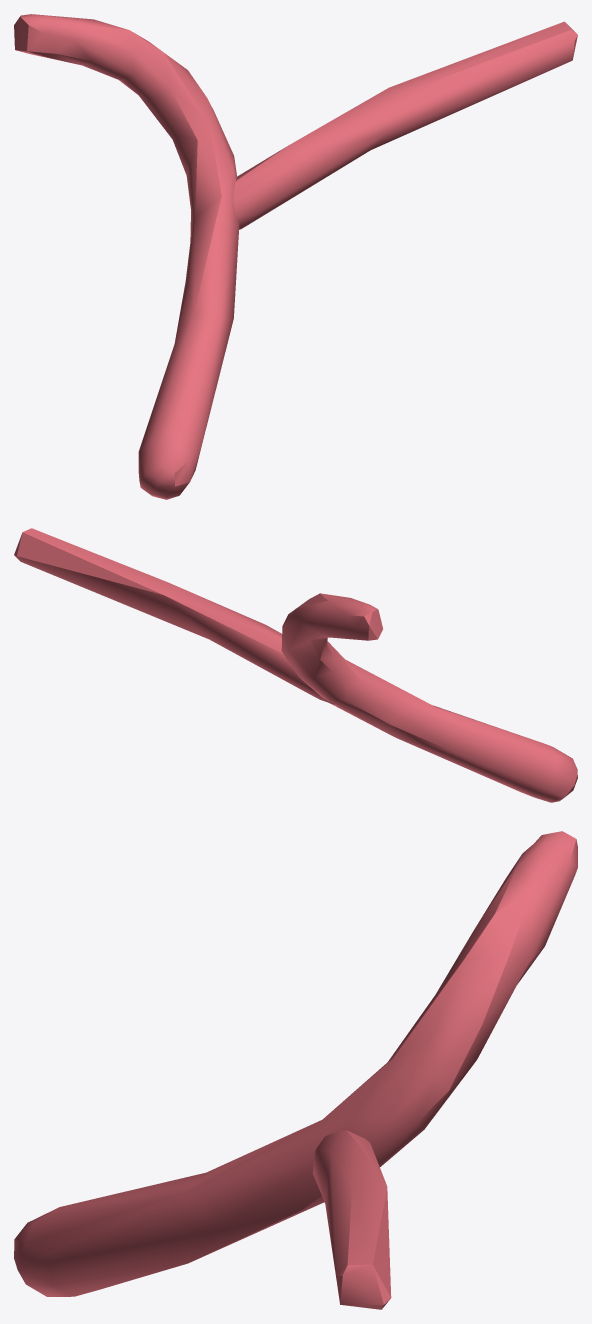
File: fma9422_cx288.glb
The picture shows the model from 3 angles, top to bottom: view 1: azimuth 30°, elevation 25°; view 2: azimuth 150°, elevation 25°; view 3: azimuth 270°, elevation 25°; orthographic projection. The views are drawn at different scales.
Visible parts, largest first — view 1: FMA9422_CX288; view 2: FMA9422_CX288; view 3: FMA9422_CX288.
Boxes of the visible parts, x1,y1,x2,y2 form: FMA9422_CX288: (14, 14, 577, 499); FMA9422_CX288: (14, 528, 577, 802); FMA9422_CX288: (14, 831, 577, 1309).
Bounding box in the file's own units: 0.0226 × 0.0137 × 0.0143.
